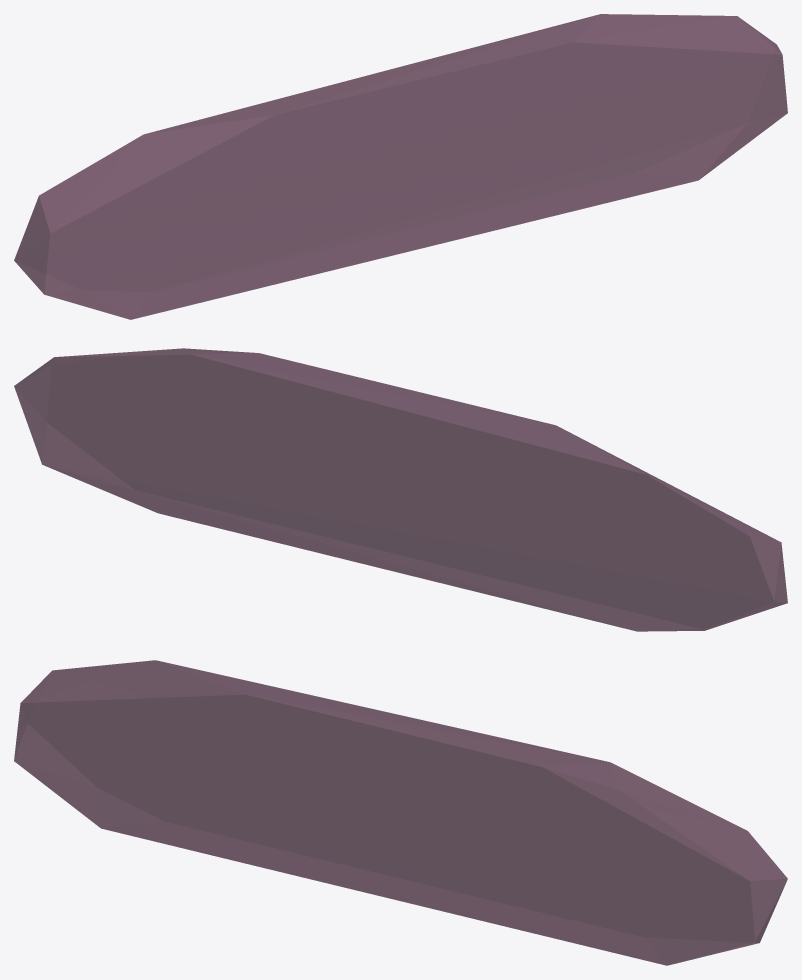
The picture shows the model from 3 angles, top to bottom: view 1: azimuth 30°, elevation 25°; view 2: azimuth 150°, elevation 25°; view 3: azimuth 330°, elevation 25°; orthographic projection.
Parts seen in each view (by area): view 1: Shape_IndexedFaceSet.179_Shape_IndexedFaceSet.608; view 2: Shape_IndexedFaceSet.179_Shape_IndexedFaceSet.608; view 3: Shape_IndexedFaceSet.179_Shape_IndexedFaceSet.608.
Boxes of the visible parts, x1=… form: Shape_IndexedFaceSet.179_Shape_IndexedFaceSet.608: x1=14, y1=14, x2=787, y2=319; Shape_IndexedFaceSet.179_Shape_IndexedFaceSet.608: x1=14, y1=348, x2=787, y2=631; Shape_IndexedFaceSet.179_Shape_IndexedFaceSet.608: x1=14, y1=660, x2=787, y2=965.
Size of the model in its own units: 0.329 by 0.0704 by 0.0167.
